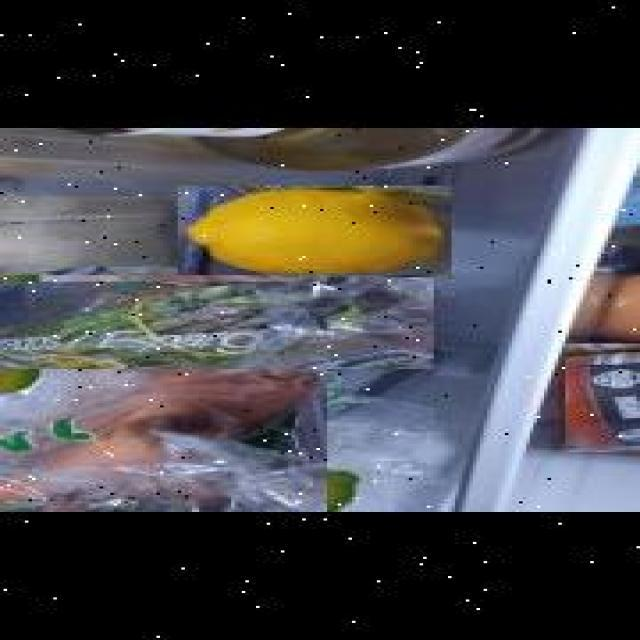asparagus: (0, 275, 430, 369)
carrot: (0, 365, 324, 512)
lemon: (174, 186, 448, 280)
tomato_sauce: (562, 343, 640, 452)
